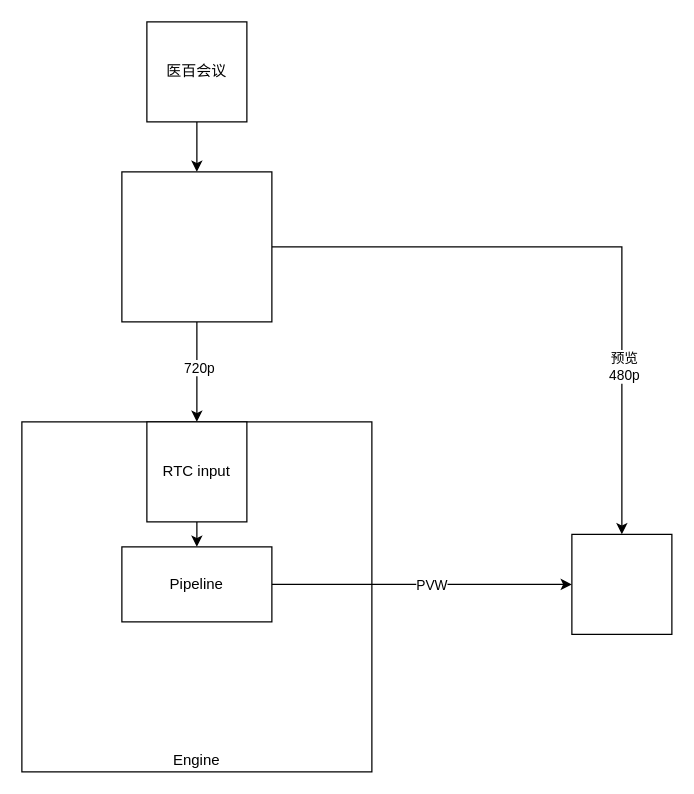
Image size: 694x794. Some labels were removed from this diagram. Here are the shapes that lost their labels. From the top down, the centre of each, then its label:
At (x=196, y=246): "SFU".
At (x=621, y=583): "Client".
